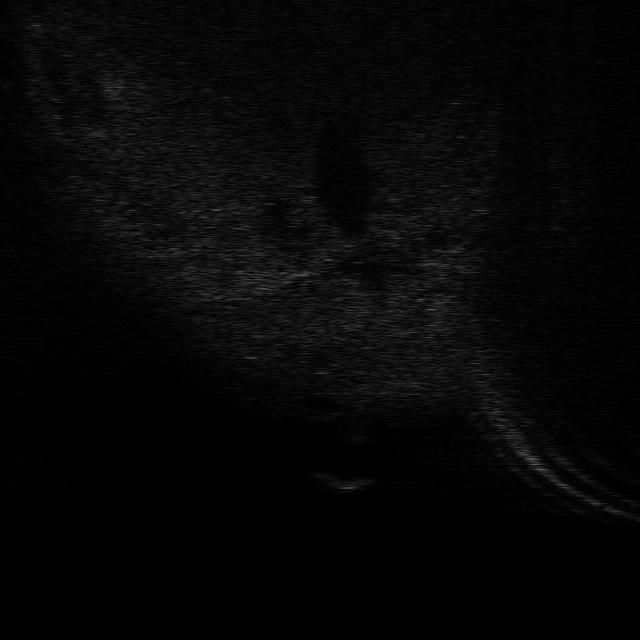cube: (305, 471, 374, 494)
